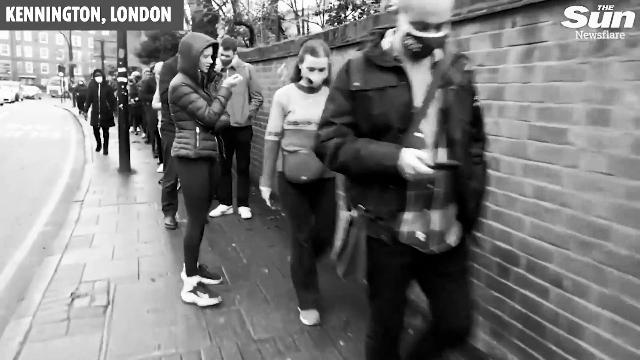berdiri: (165, 28, 242, 318)
